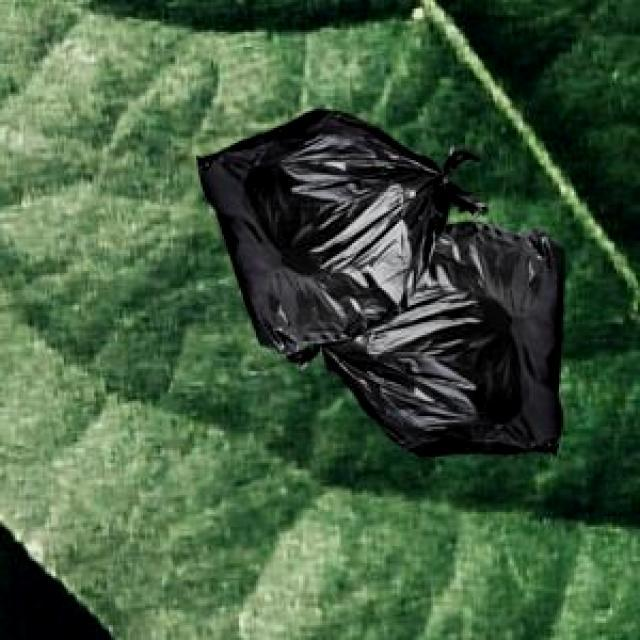Trashbag: (191, 109, 422, 365), (385, 221, 576, 465)
